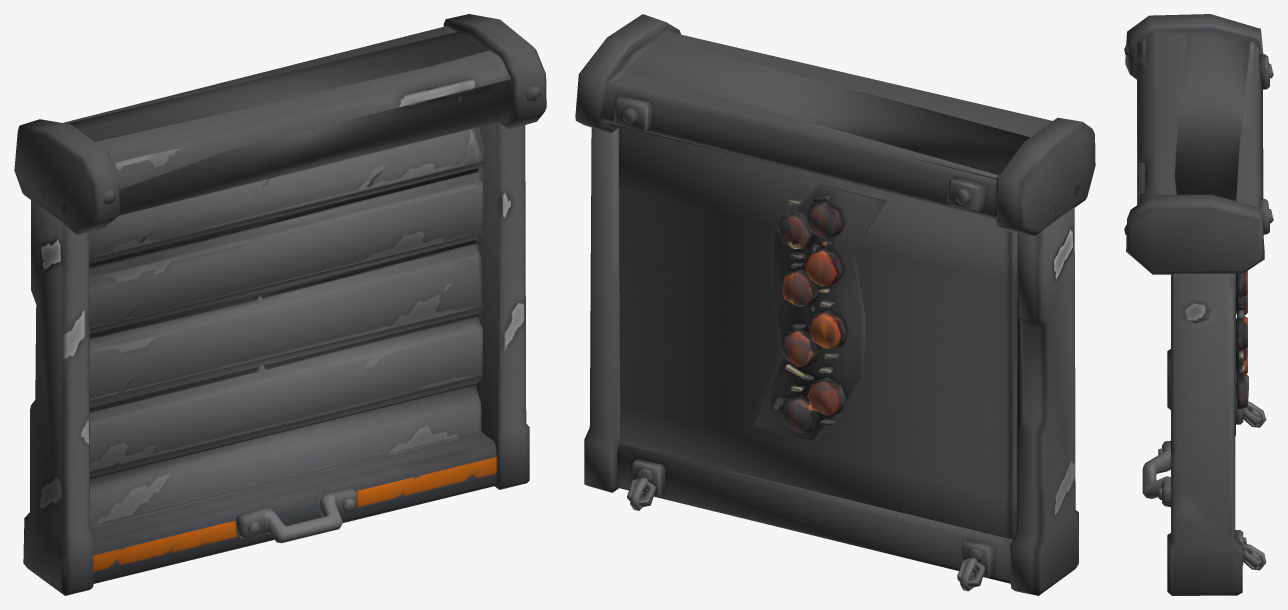
Rendered from metal-shutter.glb.
3 views of the same model, side by side, from view 1: azimuth 30°, elevation 25°; view 2: azimuth 150°, elevation 25°; view 3: azimuth 270°, elevation 25° (orthographic). The views are drawn at different scales.
Visible parts, largest first — view 1: tripo_node_dd6757f5-e6c1-4d08-a1d2-5420544d001d; view 2: tripo_node_dd6757f5-e6c1-4d08-a1d2-5420544d001d; view 3: tripo_node_dd6757f5-e6c1-4d08-a1d2-5420544d001d.
Boxes of the visible parts, box(x1,y1,x2,y2) form: tripo_node_dd6757f5-e6c1-4d08-a1d2-5420544d001d: box(14, 14, 546, 595); tripo_node_dd6757f5-e6c1-4d08-a1d2-5420544d001d: box(575, 14, 1095, 595); tripo_node_dd6757f5-e6c1-4d08-a1d2-5420544d001d: box(1124, 14, 1273, 595).
Size of the model in its own units: 0.998 by 0.916 by 0.3184.
1 material, 1 textured.
